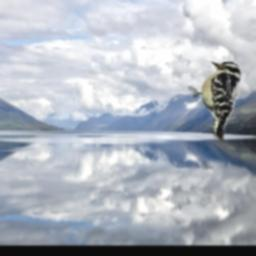Woodpecker: (188, 60, 243, 143)
